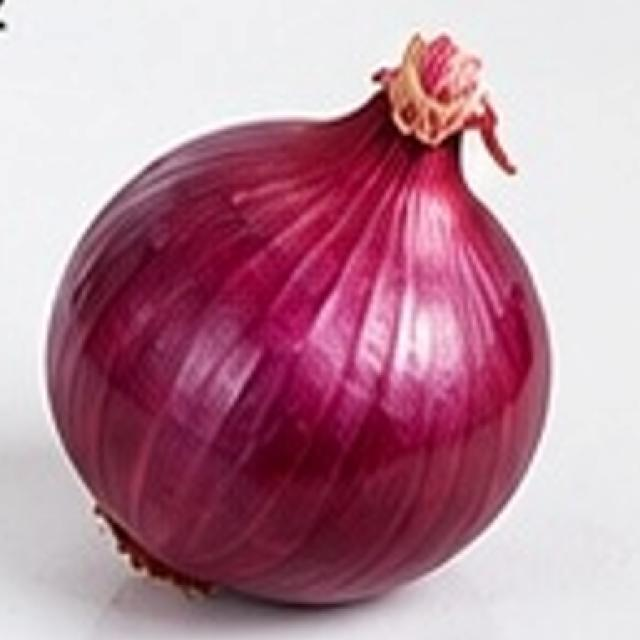healthy: (38, 14, 559, 600)
